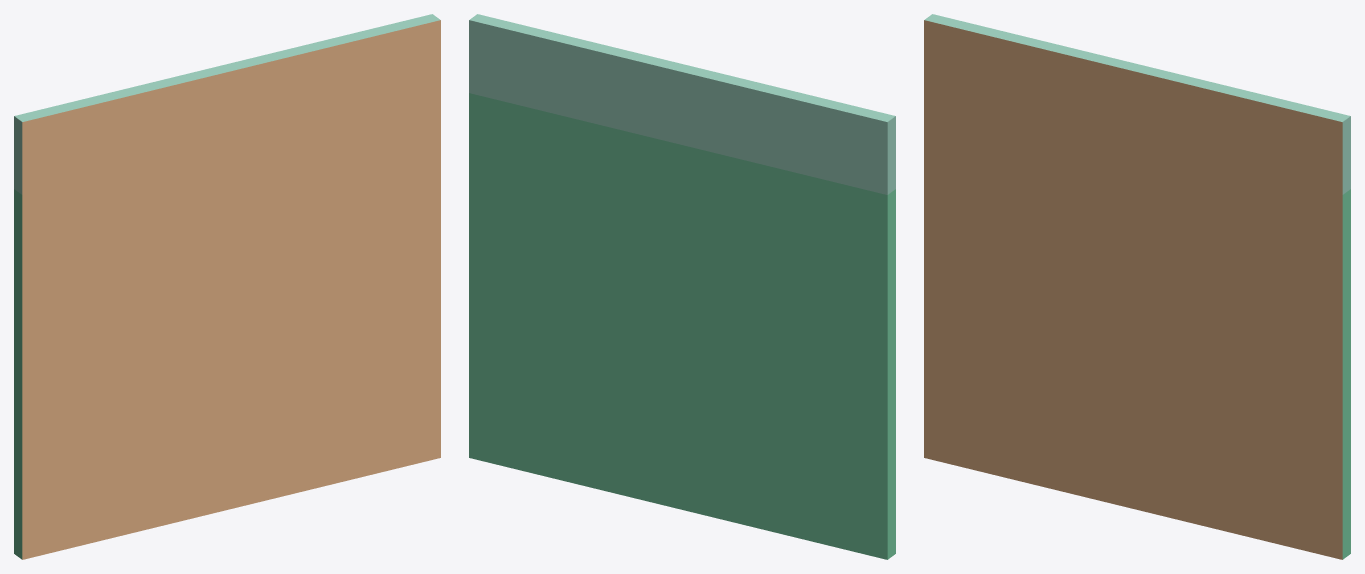
File: BedroomWall.fbx
3 renders of one model, left to right at view 1: azimuth 30°, elevation 25°; view 2: azimuth 150°, elevation 25°; view 3: azimuth 330°, elevation 25°, orthographic.
Visible parts, largest first — view 1: Cube; view 2: Cube; view 3: Cube.
Boxes of the visible parts, bbox=[...] form: Cube: bbox=[14, 14, 440, 559]; Cube: bbox=[469, 14, 895, 559]; Cube: bbox=[924, 14, 1350, 559].
Bounding box in the file's own units: 2900 × 100 × 2900.
1 material, 1 textured.
